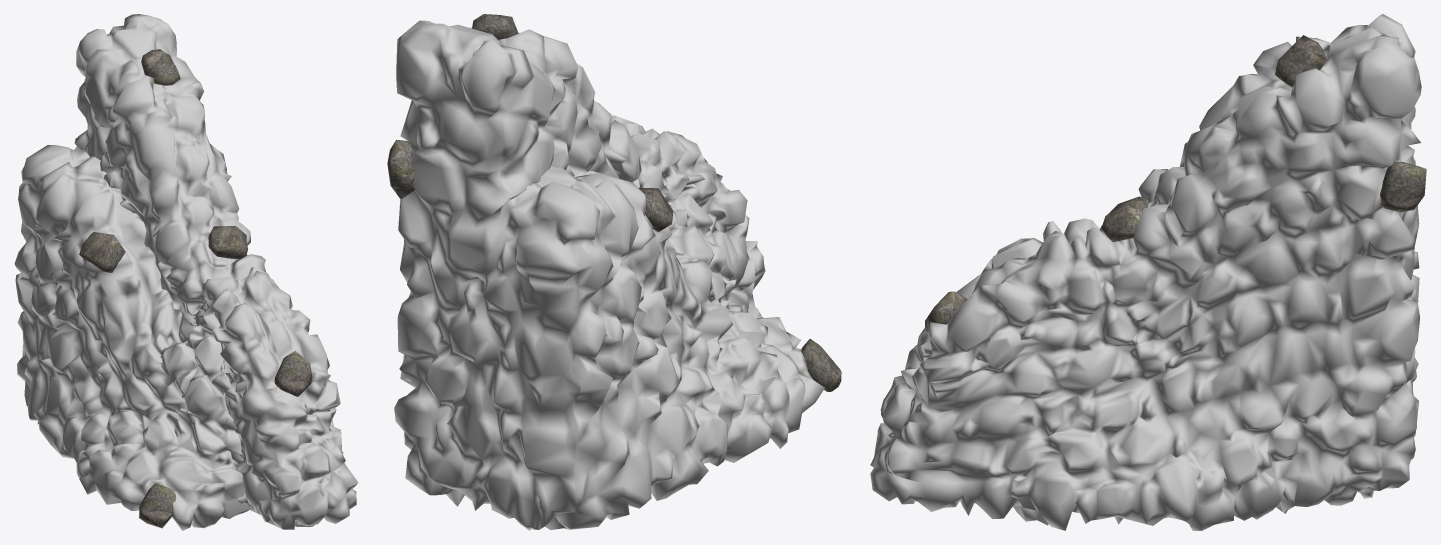
The model's file is SM_Wall_Stone_End_01.fbx.
The picture shows the model from 3 angles, left to right: view 1: azimuth 30°, elevation 25°; view 2: azimuth 150°, elevation 25°; view 3: azimuth 270°, elevation 25°; orthographic projection. The views are drawn at different scales.
Parts seen in each view (by area): view 1: SM_Wall_Stone_End_01_LOD0; view 2: SM_Wall_Stone_End_01_LOD0; view 3: SM_Wall_Stone_End_01_LOD0.
Boxes of the visible parts, x1,y1,x2,y2 form: SM_Wall_Stone_End_01_LOD0: (14, 14, 358, 530); SM_Wall_Stone_End_01_LOD0: (387, 14, 841, 530); SM_Wall_Stone_End_01_LOD0: (870, 14, 1426, 530).
Size of the model in its own units: 216 by 339 by 317.
